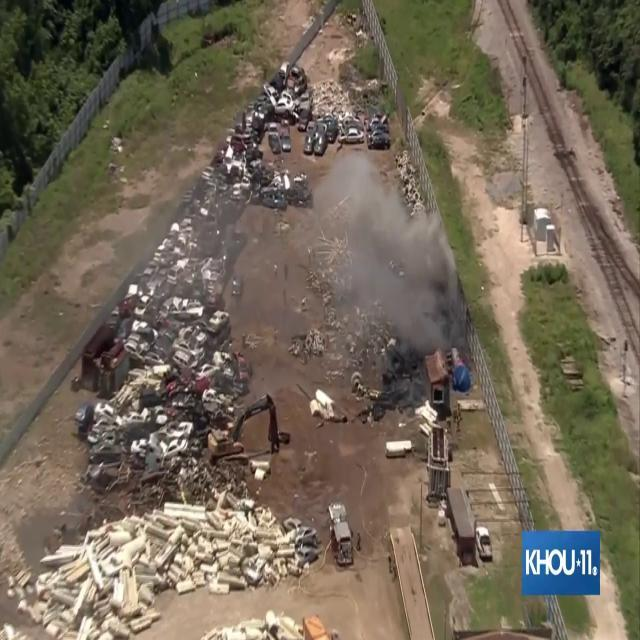Smoke: (322, 146, 464, 358)
